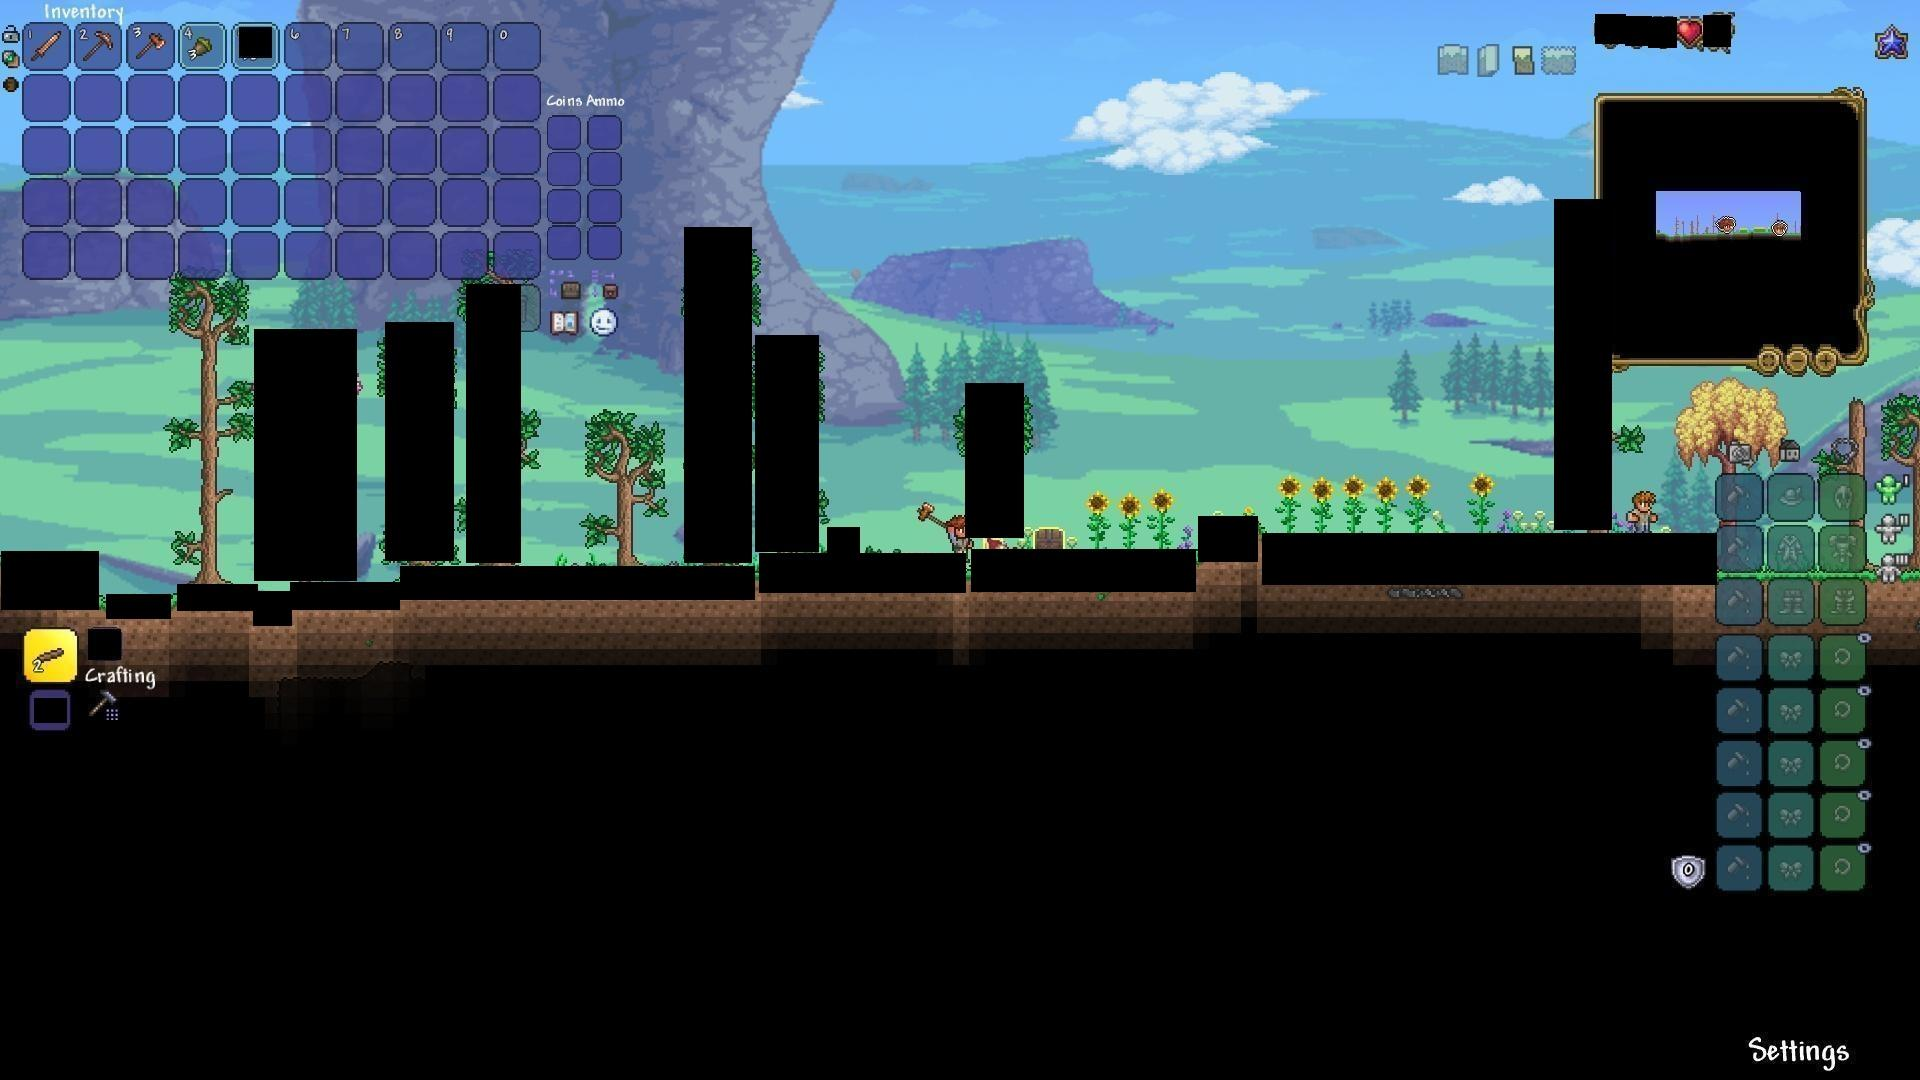heart: (1675, 16, 1704, 47)
tree: (170, 276, 241, 575), (584, 397, 666, 564)
